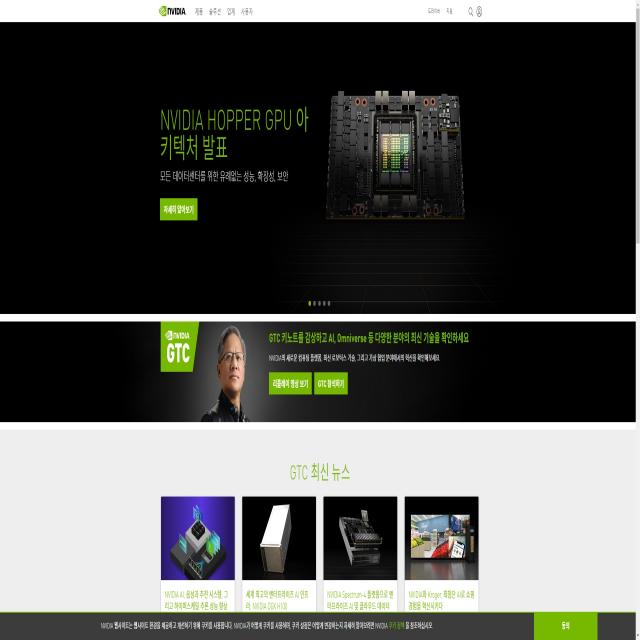menu-bar: (424, 2, 484, 17)
